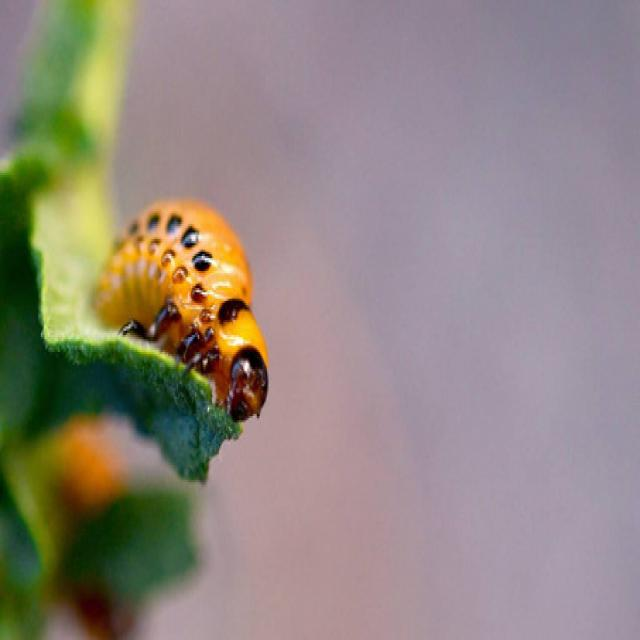ShuCaiHuaBanChong-Larva-: (66, 179, 274, 439)
